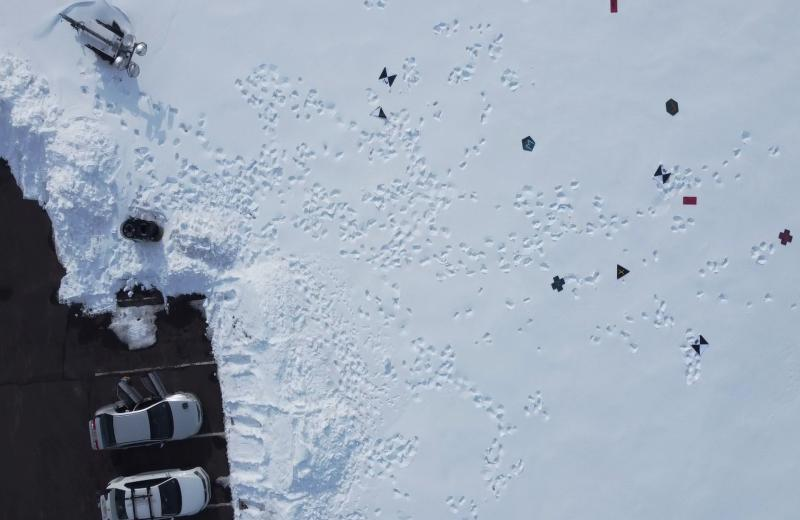Cross: (778, 228, 794, 246), (550, 274, 566, 292)
Hexagon: (664, 98, 680, 116)
Pentagon: (520, 133, 538, 154)
Rectangle: (682, 193, 698, 207), (607, 0, 619, 14)
Triangle: (614, 261, 630, 281)
